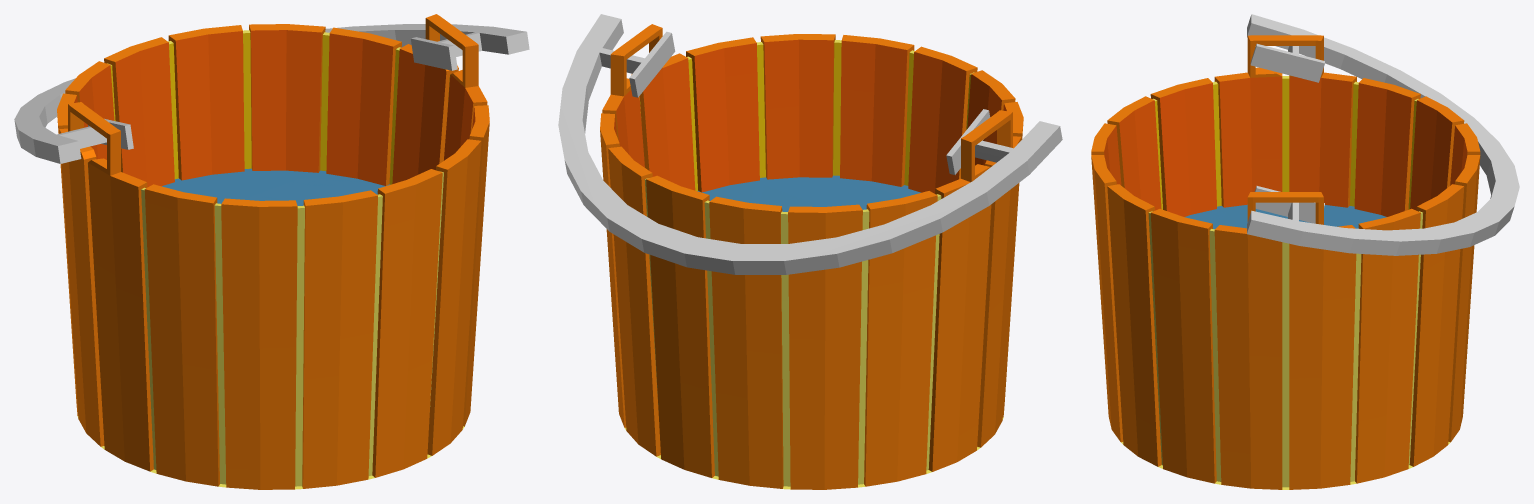
The model's file is Bucket.fbx.
3 views of the same model, side by side, from view 1: azimuth 30°, elevation 25°; view 2: azimuth 150°, elevation 25°; view 3: azimuth 270°, elevation 25° (orthographic). The views are drawn at different scales.
Visible parts, largest first — view 1: body, handle, water; view 2: body, handle, water; view 3: body, handle, water.
Part boxes in pixels (x1,y1,x2,y2): body: (57, 14, 489, 489); handle: (14, 24, 529, 163); water: (162, 168, 389, 205); body: (600, 24, 1023, 489); handle: (558, 14, 1062, 274); water: (697, 175, 920, 211); body: (1091, 35, 1480, 489); handle: (1247, 14, 1519, 255); water: (1184, 204, 1386, 229).
Bounding box in the file's own units: 0.5062 × 0.3432 × 0.4456.
1 material, 1 textured.
